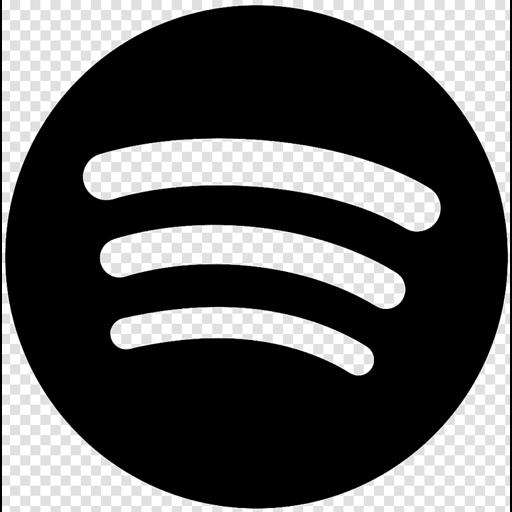Spotify: (2, 0, 510, 512)
